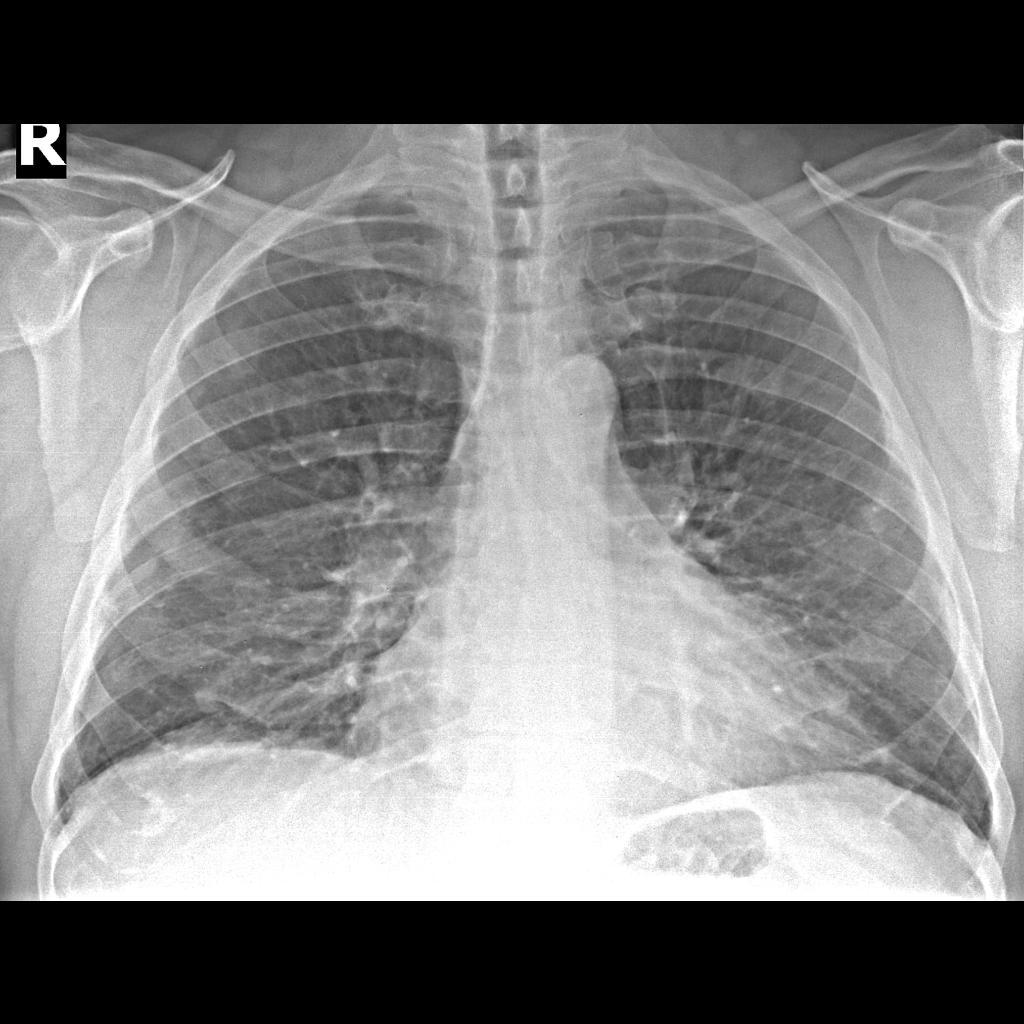Nodule: (219, 330, 265, 387), (187, 681, 229, 727)
